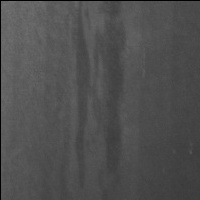inclusion: (74, 2, 126, 191)
